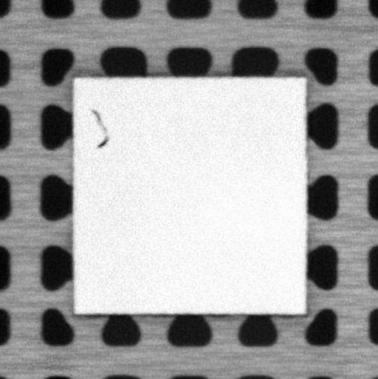DIE_INK: (90, 106, 110, 148)
